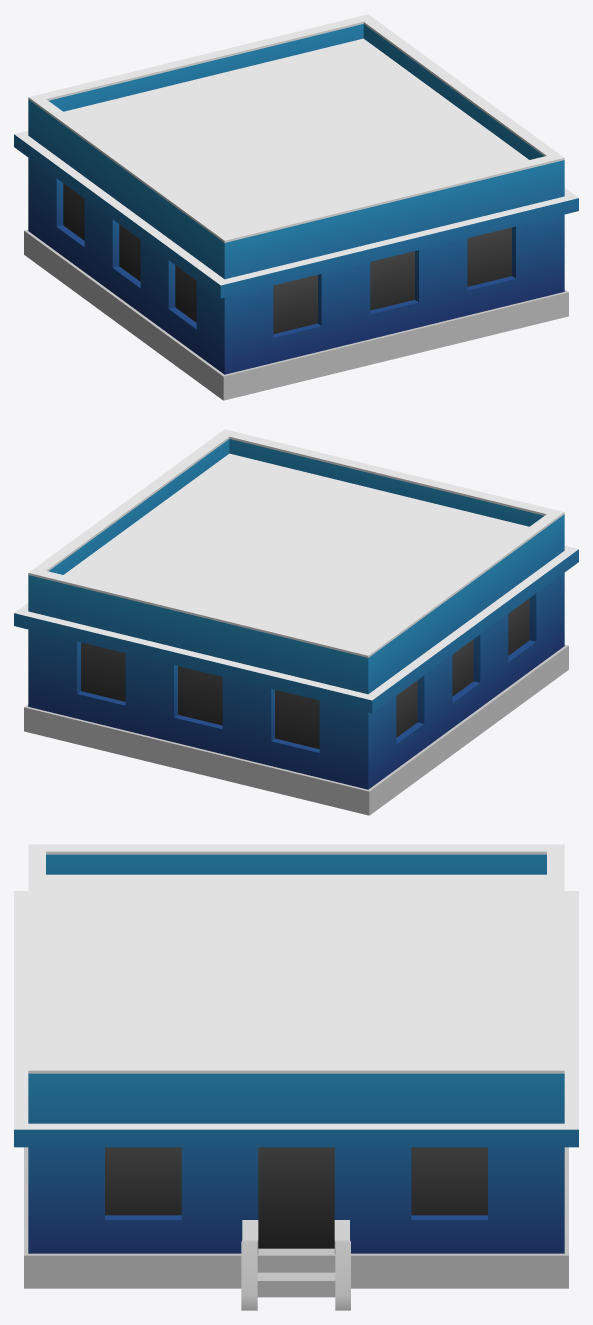
Rendered from build3.fbx.
3 renders of one model, top to bottom at view 1: azimuth 30°, elevation 25°; view 2: azimuth 150°, elevation 25°; view 3: azimuth 270°, elevation 25°, orthographic. The views are drawn at different scales.
Parts seen in each view (by area): view 1: pCube39; view 2: pCube39; view 3: pCube39.
Part boxes in pixels (left/top/right/bottom): pCube39: left=14, top=14, right=578, bottom=400; pCube39: left=14, top=429, right=578, bottom=815; pCube39: left=14, top=844, right=578, bottom=1310.
Bounding box in the file's own units: 8.09 × 3.17 × 7.52.
